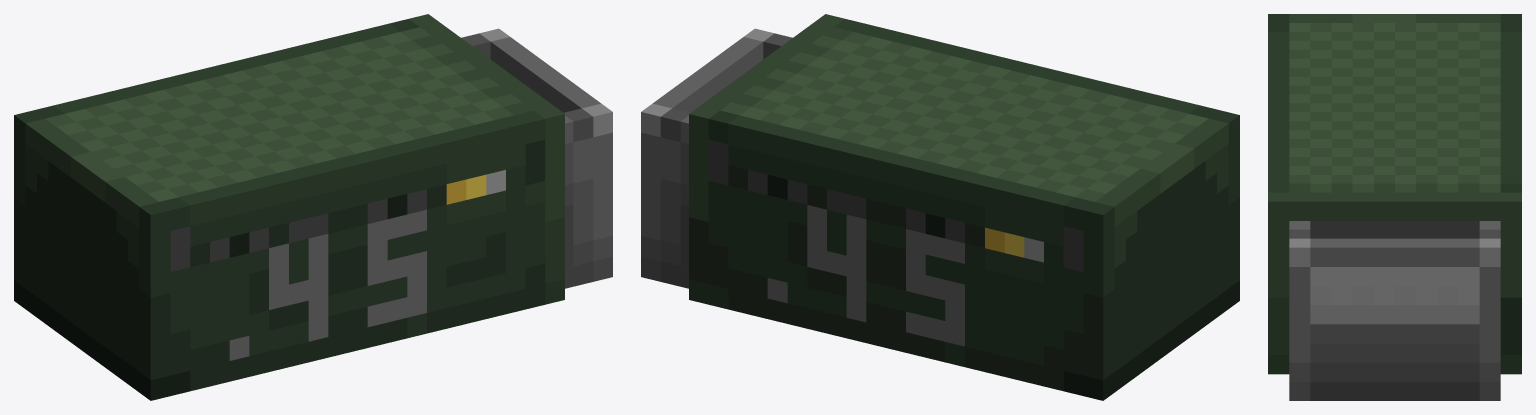
File: 45bxE.obj
The picture shows the model from 3 angles, left to right: view 1: azimuth 30°, elevation 25°; view 2: azimuth 150°, elevation 25°; view 3: azimuth 270°, elevation 25°; orthographic projection. The views are drawn at different scales.
Bounding box in the file's own units: 2.4 × 0.9 × 1.2.
Materials: 1 (1 with a texture image).
